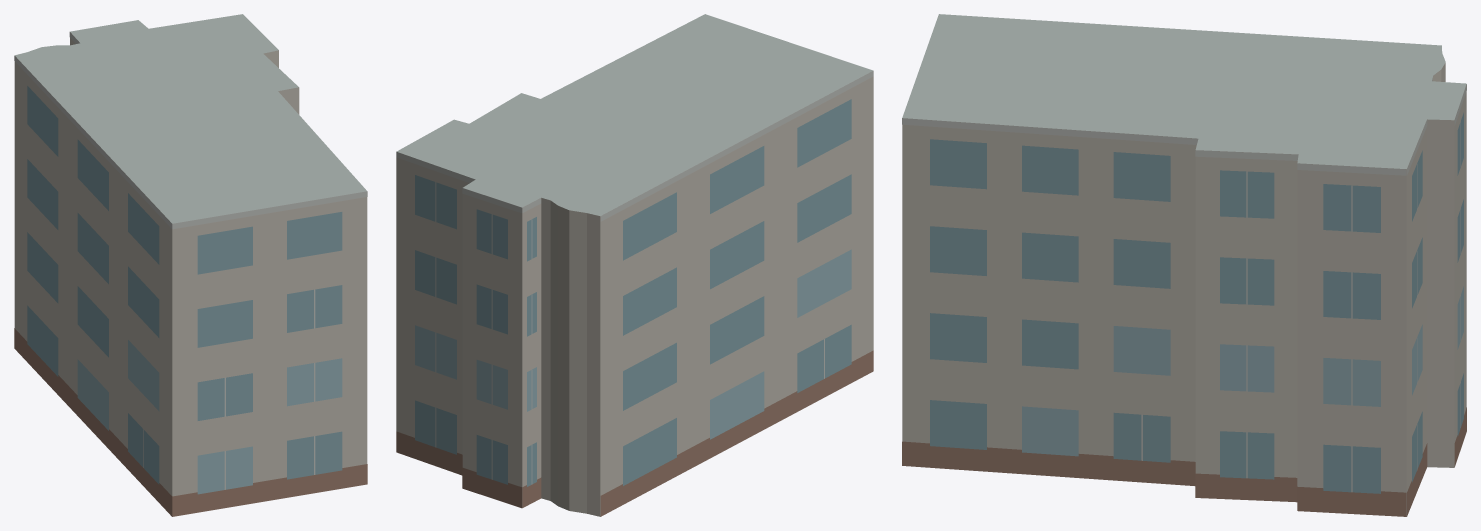
The model's file is survey-upis-32644438.glb.
The picture shows the model from 3 angles, left to right: view 1: azimuth 30°, elevation 25°; view 2: azimuth 150°, elevation 25°; view 3: azimuth 270°, elevation 25°; orthographic projection. The views are drawn at different scales.
Parts seen in each view (by area): view 1: survey-upis-32644438.tmp; view 2: survey-upis-32644438.tmp; view 3: survey-upis-32644438.tmp.
Boxes of the visible parts, box(x1,y1,x2,y2) form: survey-upis-32644438.tmp: box(14, 14, 367, 516); survey-upis-32644438.tmp: box(396, 14, 873, 516); survey-upis-32644438.tmp: box(902, 14, 1466, 516).
Bounding box in the file's own units: 12.26 × 12.8 × 18.85.
